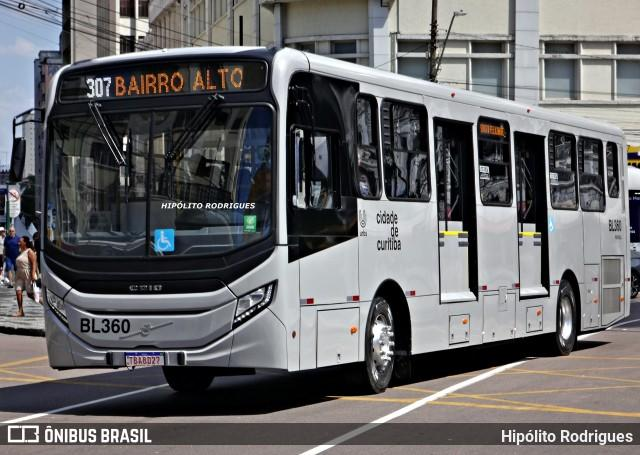BAIRRO ALTO: (112, 64, 246, 99)
